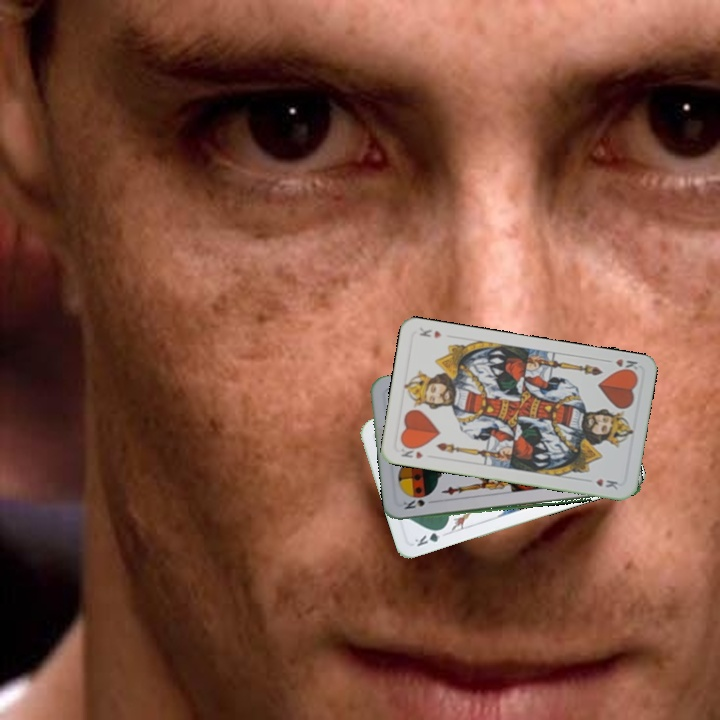GK: (410, 524, 448, 549)
HK: (601, 355, 641, 376), (397, 441, 425, 461)
SK: (399, 496, 427, 512)
